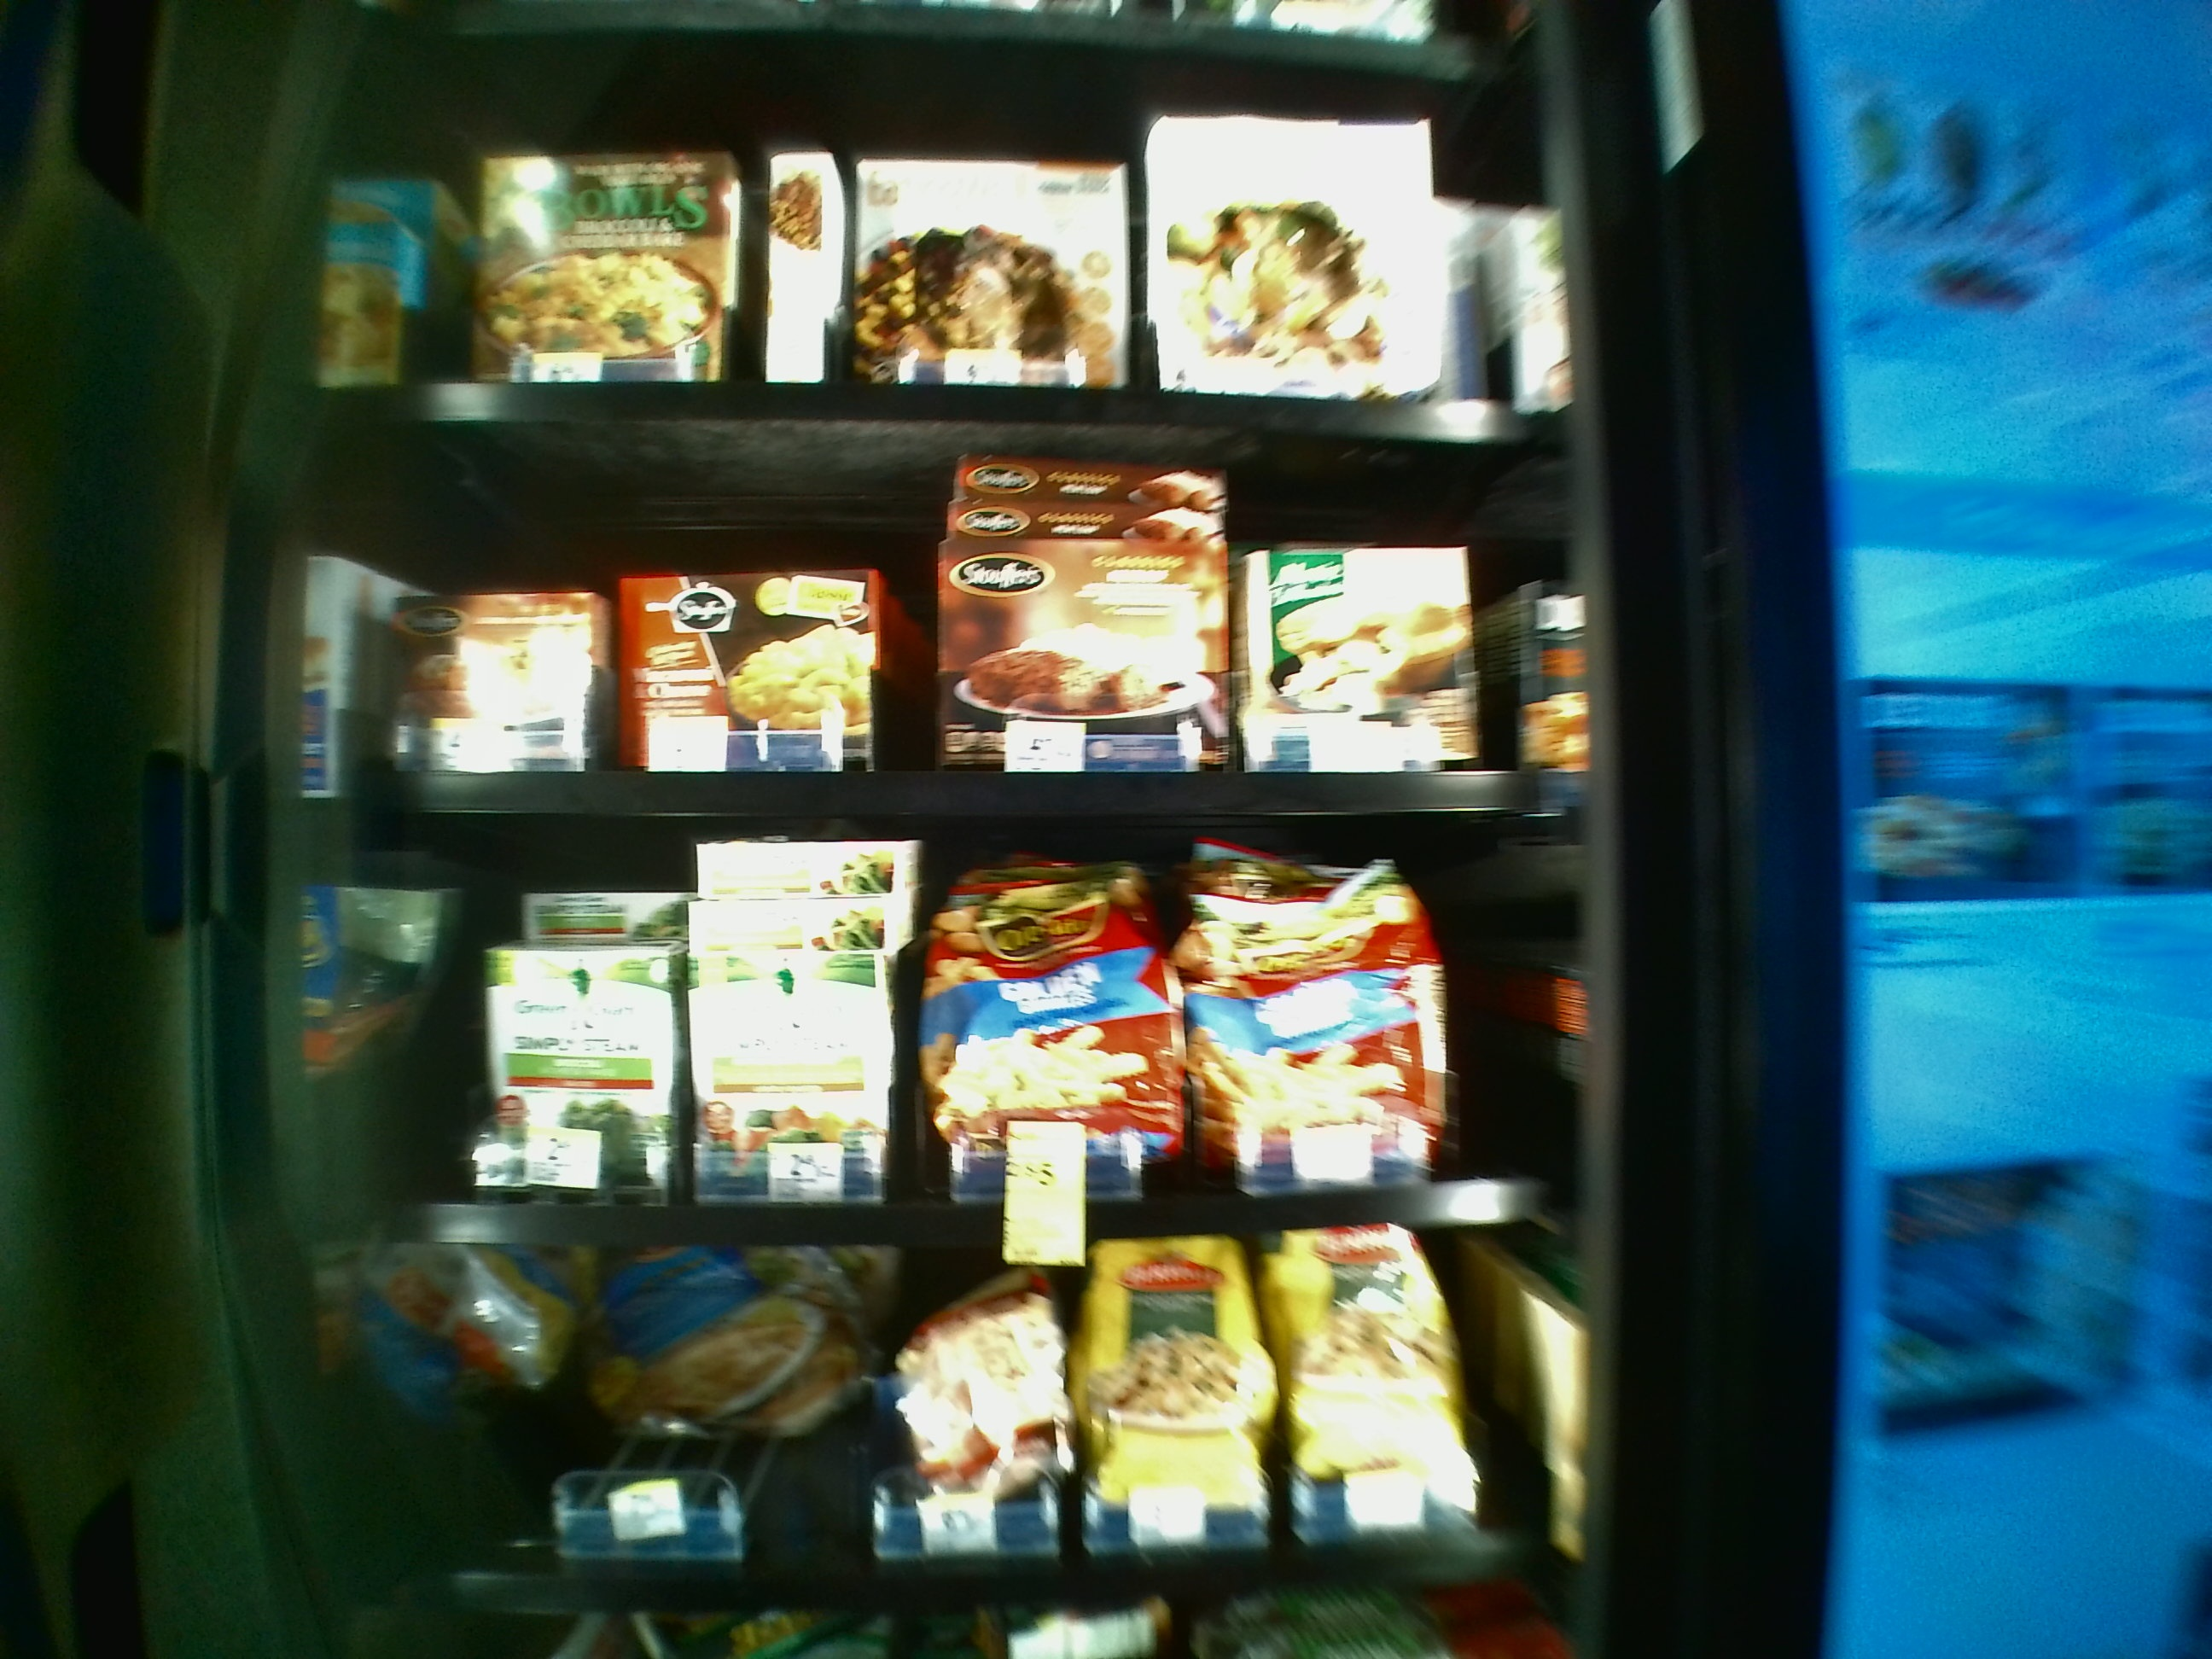shelf: (294, 828, 1581, 1269), (301, 425, 1587, 812)
